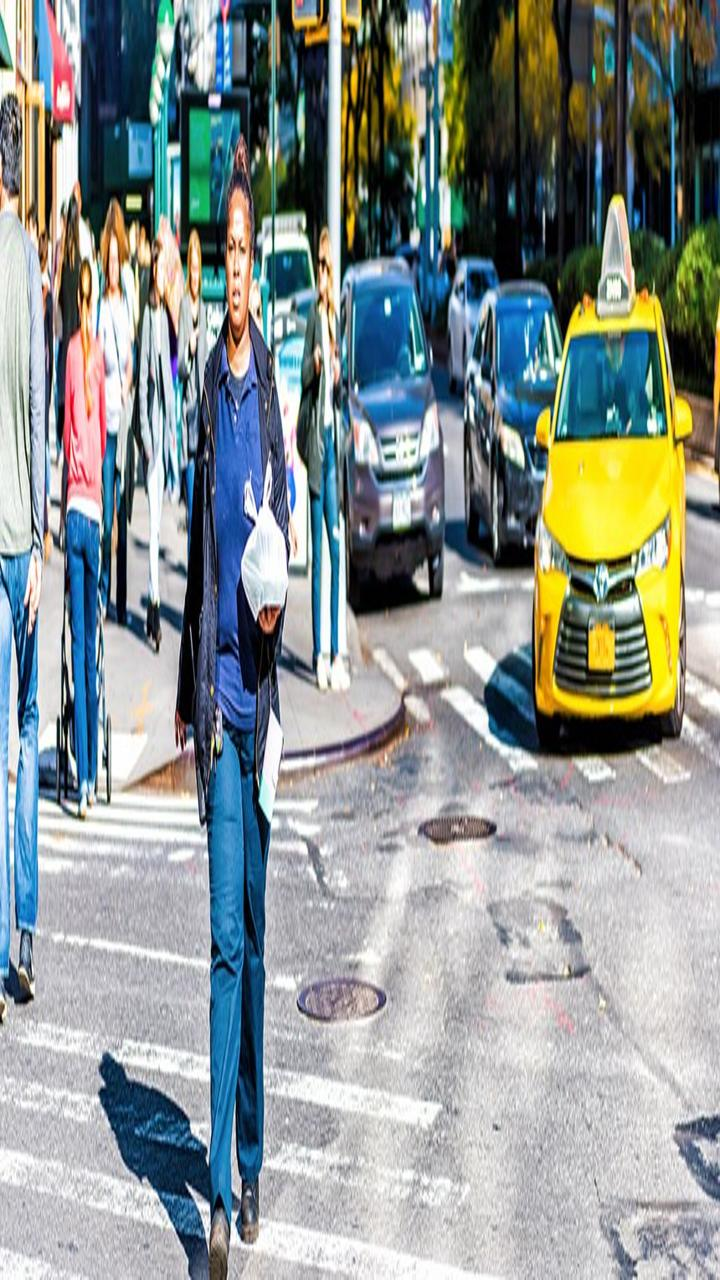pedestrian: (171, 177, 291, 1263), (1, 89, 60, 1012), (63, 207, 137, 812)
vehicle: (540, 277, 700, 737), (328, 258, 459, 607), (463, 268, 586, 575)
